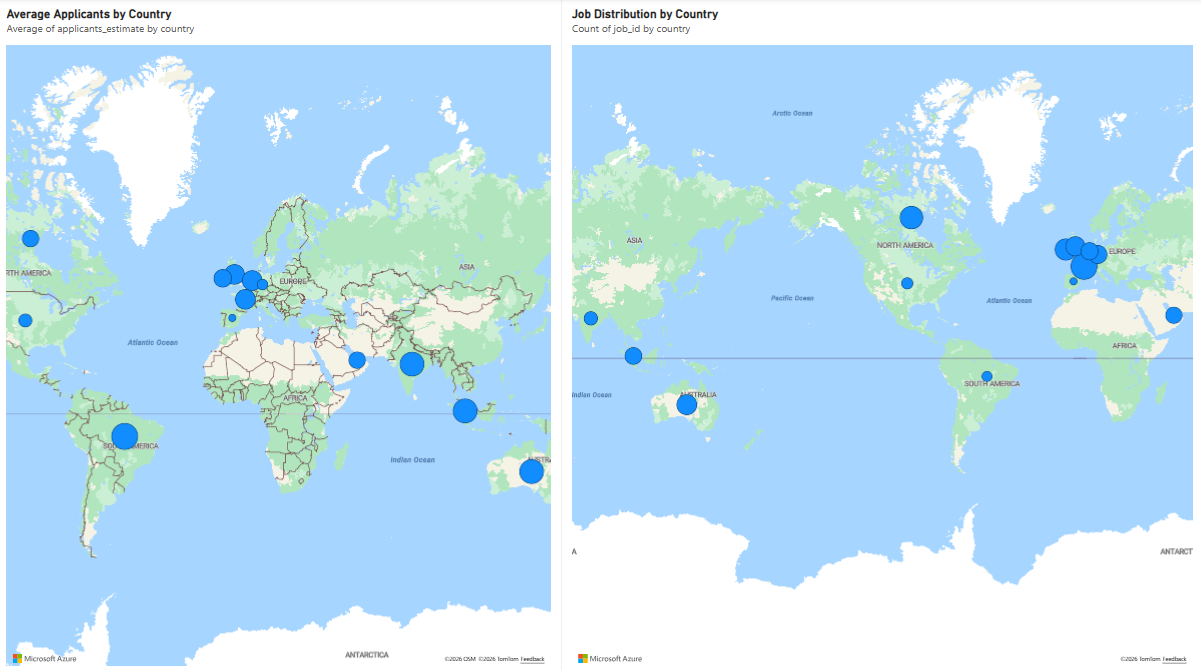

The page's visual inventory and layout, read from the dashboard file:
{"tool":"powerbi","page":{"name":"Page 5","canvas":[1920,1080],"ordinal":4},"visuals":[{"type":"azureMap","title":"Job Distribution by Country","fields":{"Category":["job_postings_analysis.country"],"Size":["CountNonNull(job_postings_analysis.job_id)"]},"box":[899.5,0,1021.2,1080.8],"z":3},{"type":"azureMap","title":"Average Applicants by Country","fields":{"Category":["job_postings_analysis.country"],"Size":["Avg(job_postings_analysis.applicants_estimate)"]},"box":[0,0,899.5,1080.8],"z":4}]}

Visuals, with their boxes in screenshot pixels (x1, y1, x2, y2), scaled from the page's 1920x1080 canvas onto the 1201x670 screenshot:
"Job Distribution by Country" azureMap: locate(563, 0, 1200, 669)
"Average Applicants by Country" azureMap: locate(0, 0, 563, 669)
